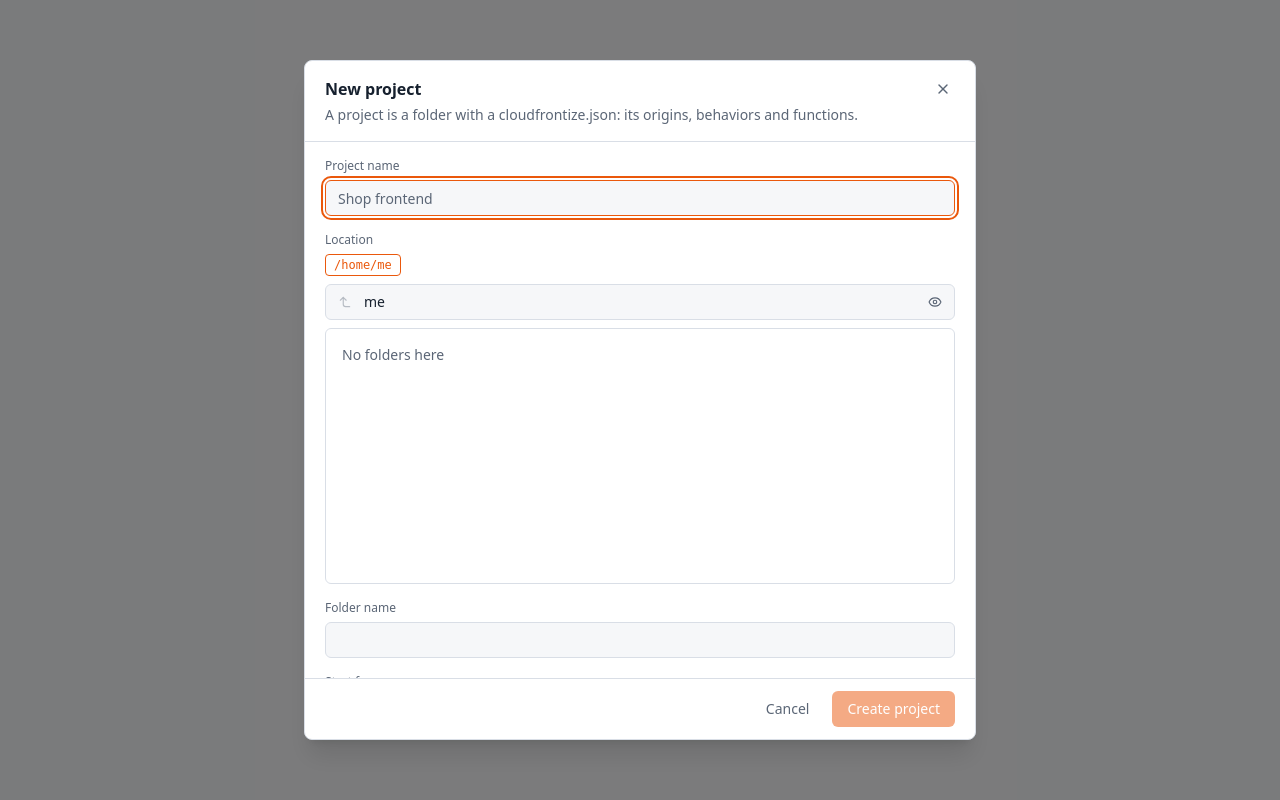
it: NewProjectDialog › a folder that already has content is reported on the folder field
Click the button "/home/me" at (363, 265), box [325, 254, 401, 276]
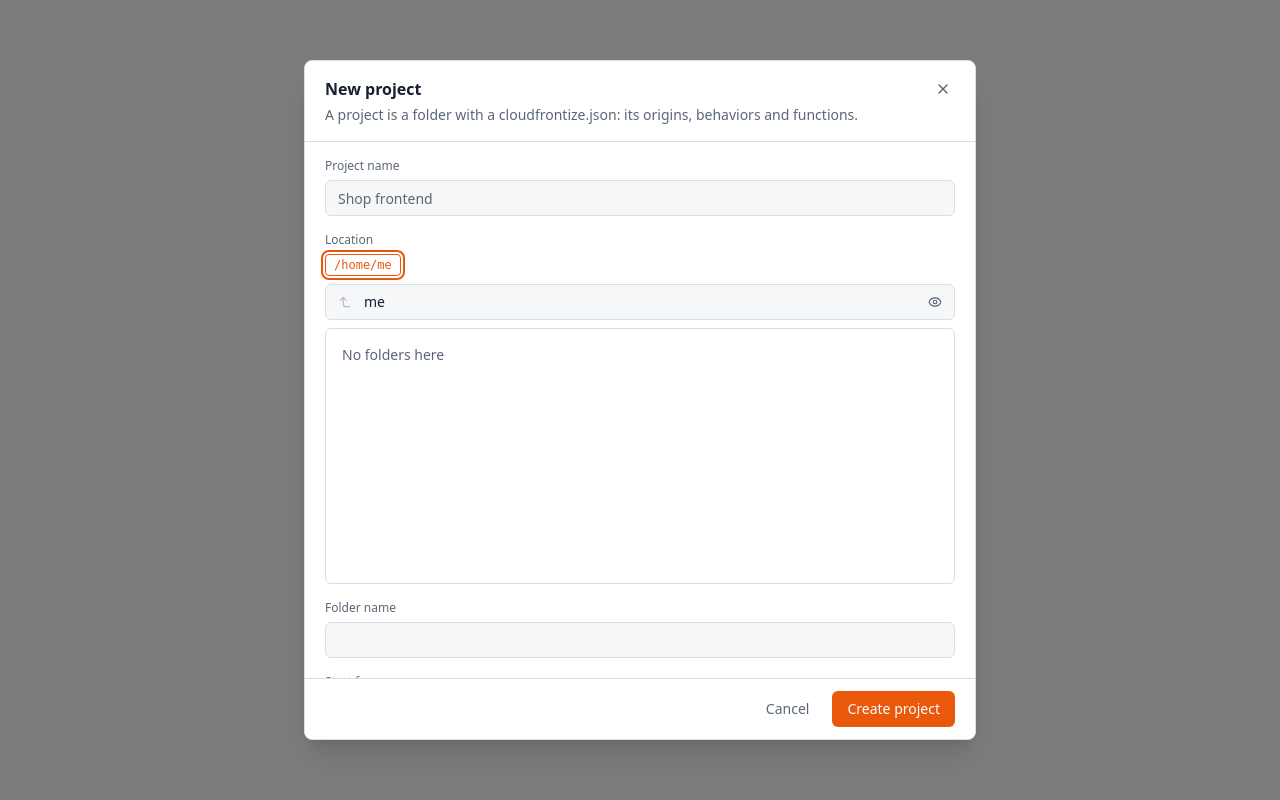
Type "Site" into the field labelled "Project name" at (640, 198), box [325, 180, 955, 216]
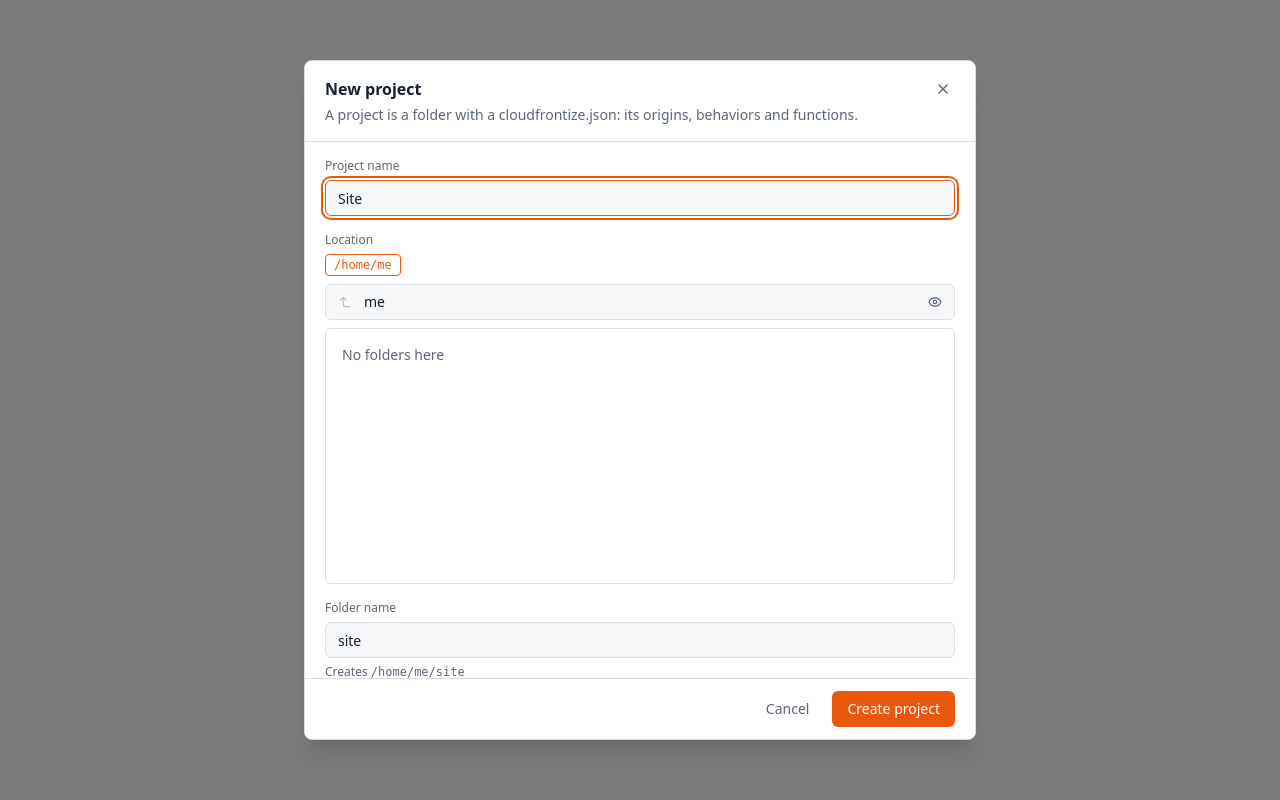
Click the button "Create project" at (894, 709), box [832, 691, 955, 727]
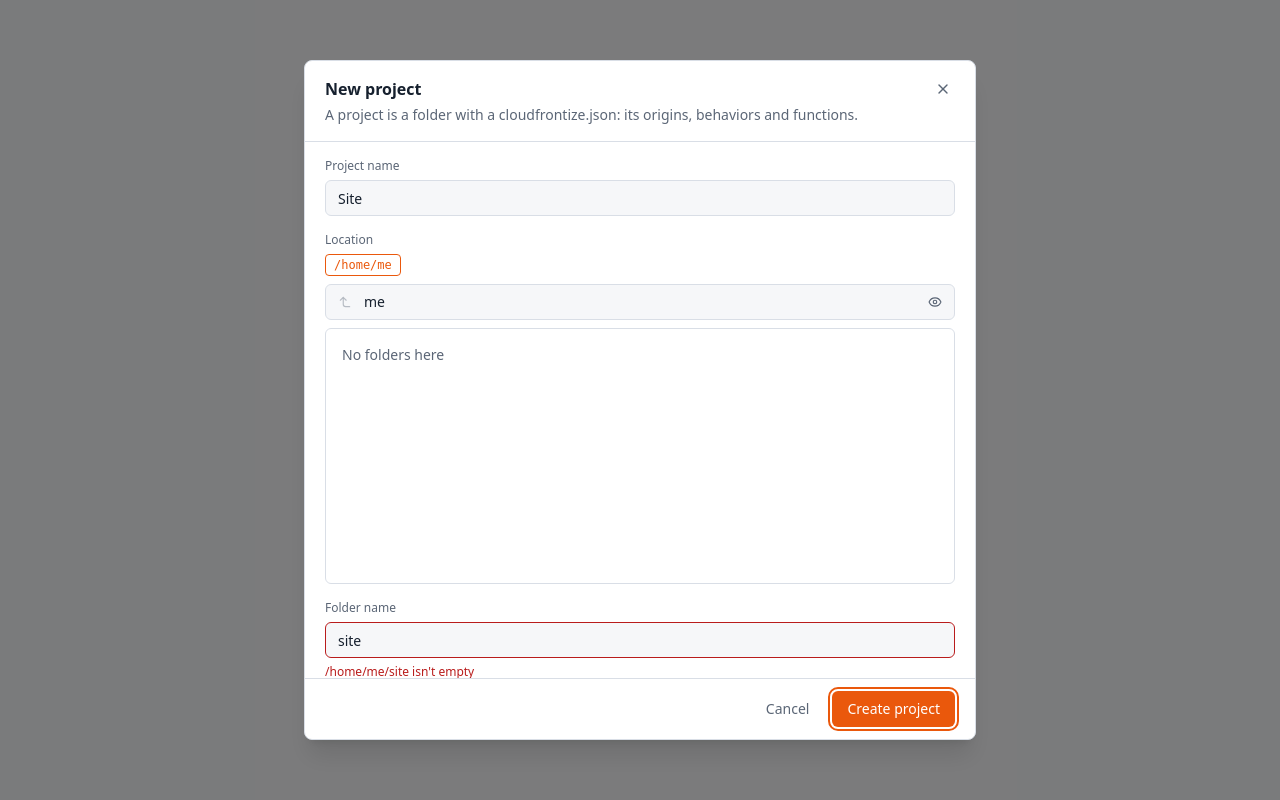
Check: the text "/home/me/site isn't empty" is shown, box [325, 663, 474, 678]
